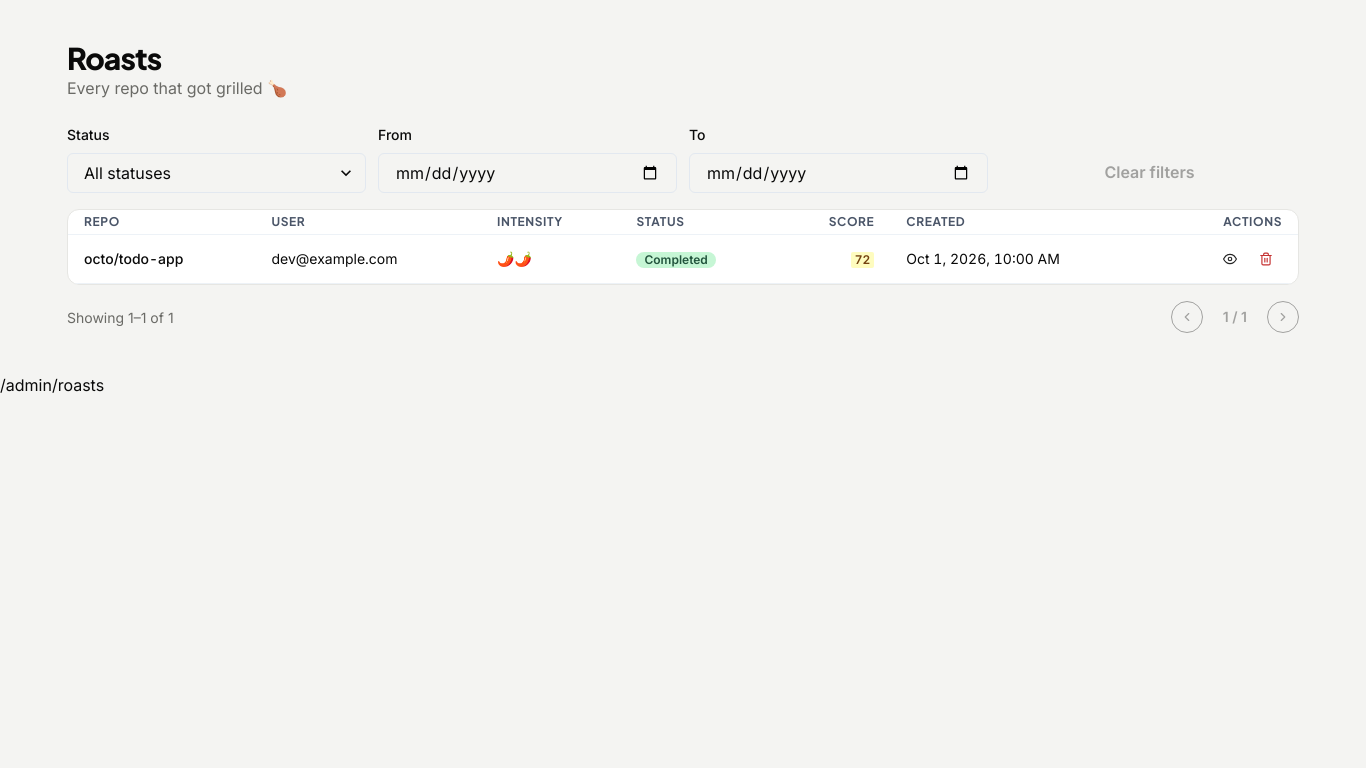
Test: AdminRoastsPage › delete failure shows an error toast
Click the button named "Delete roast of octo/todo-app" at [1266, 259], box 1250,243 -> 1282,275
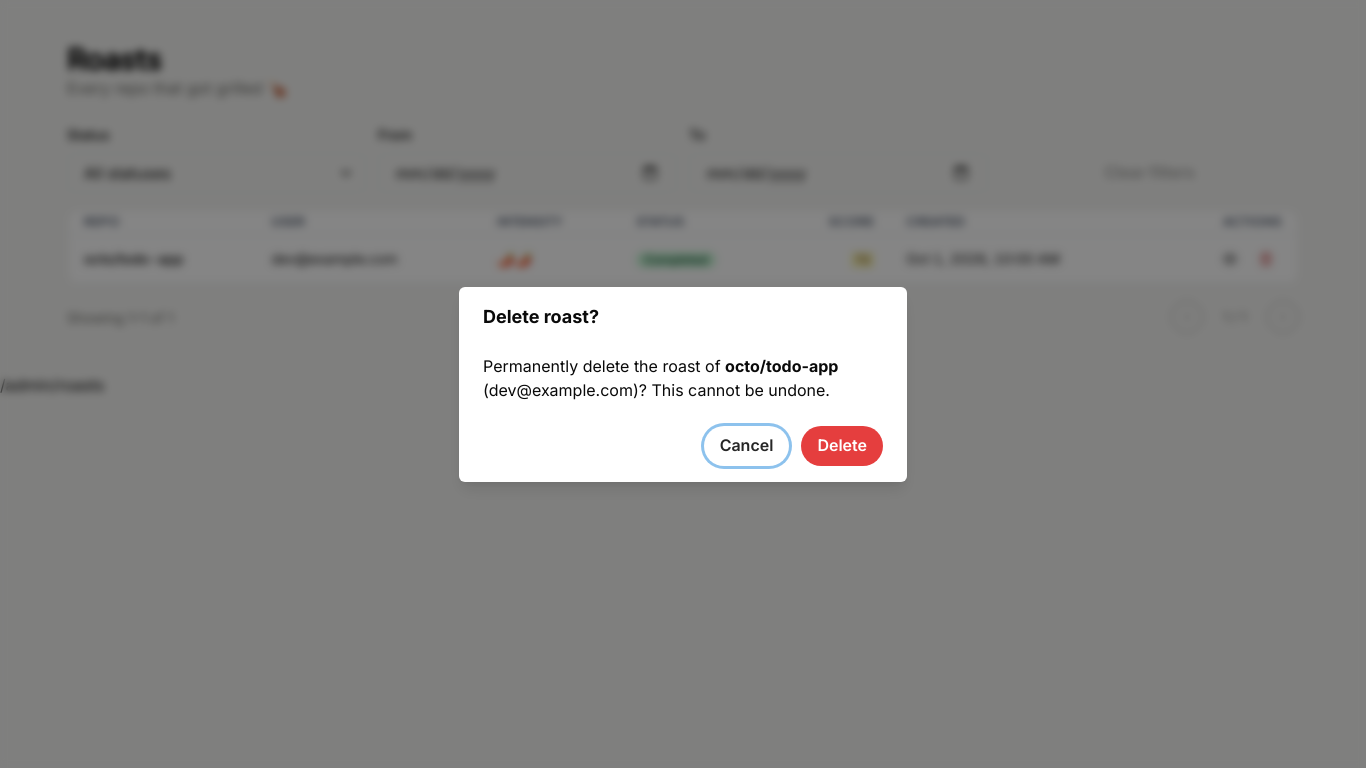
Click the button "Delete" at [842, 446], box 801,426 -> 883,466
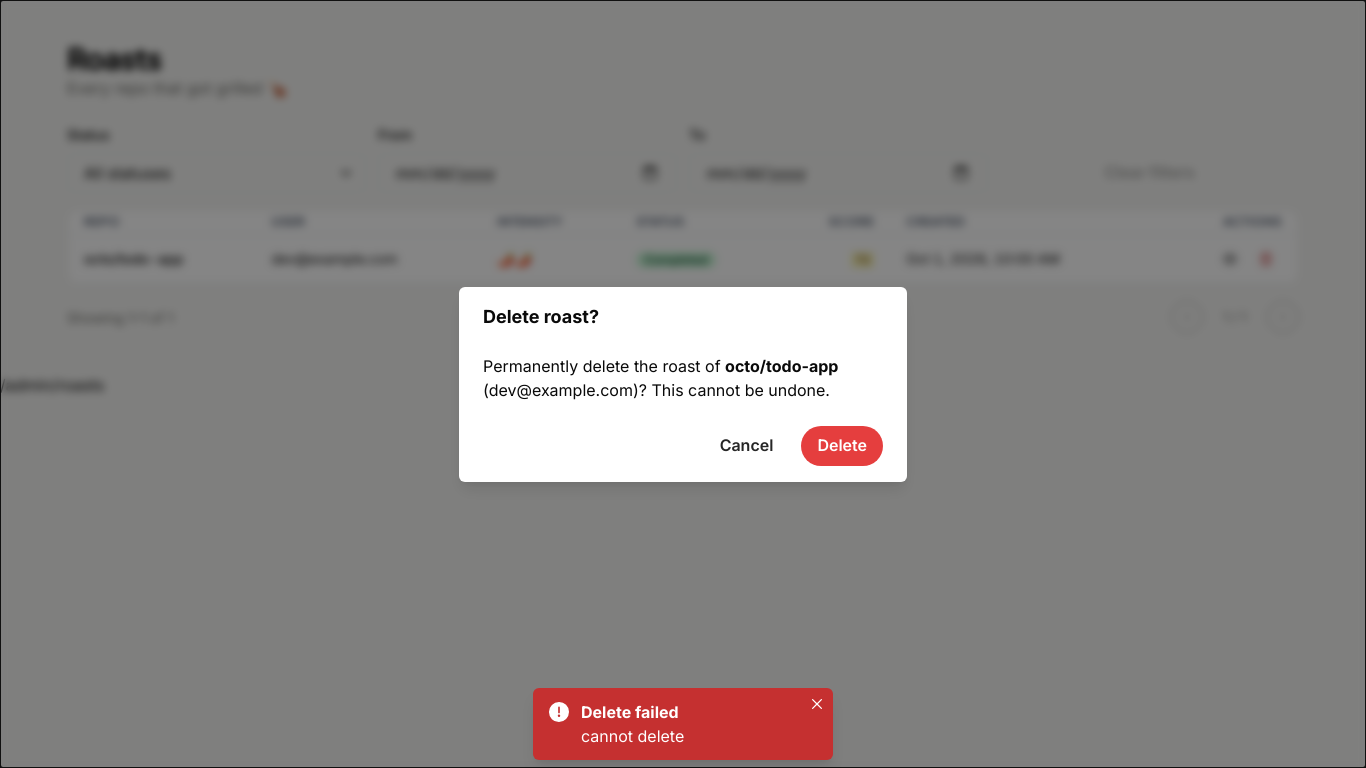
Check: the text "cannot delete" is shown, box 581,726 -> 684,746
